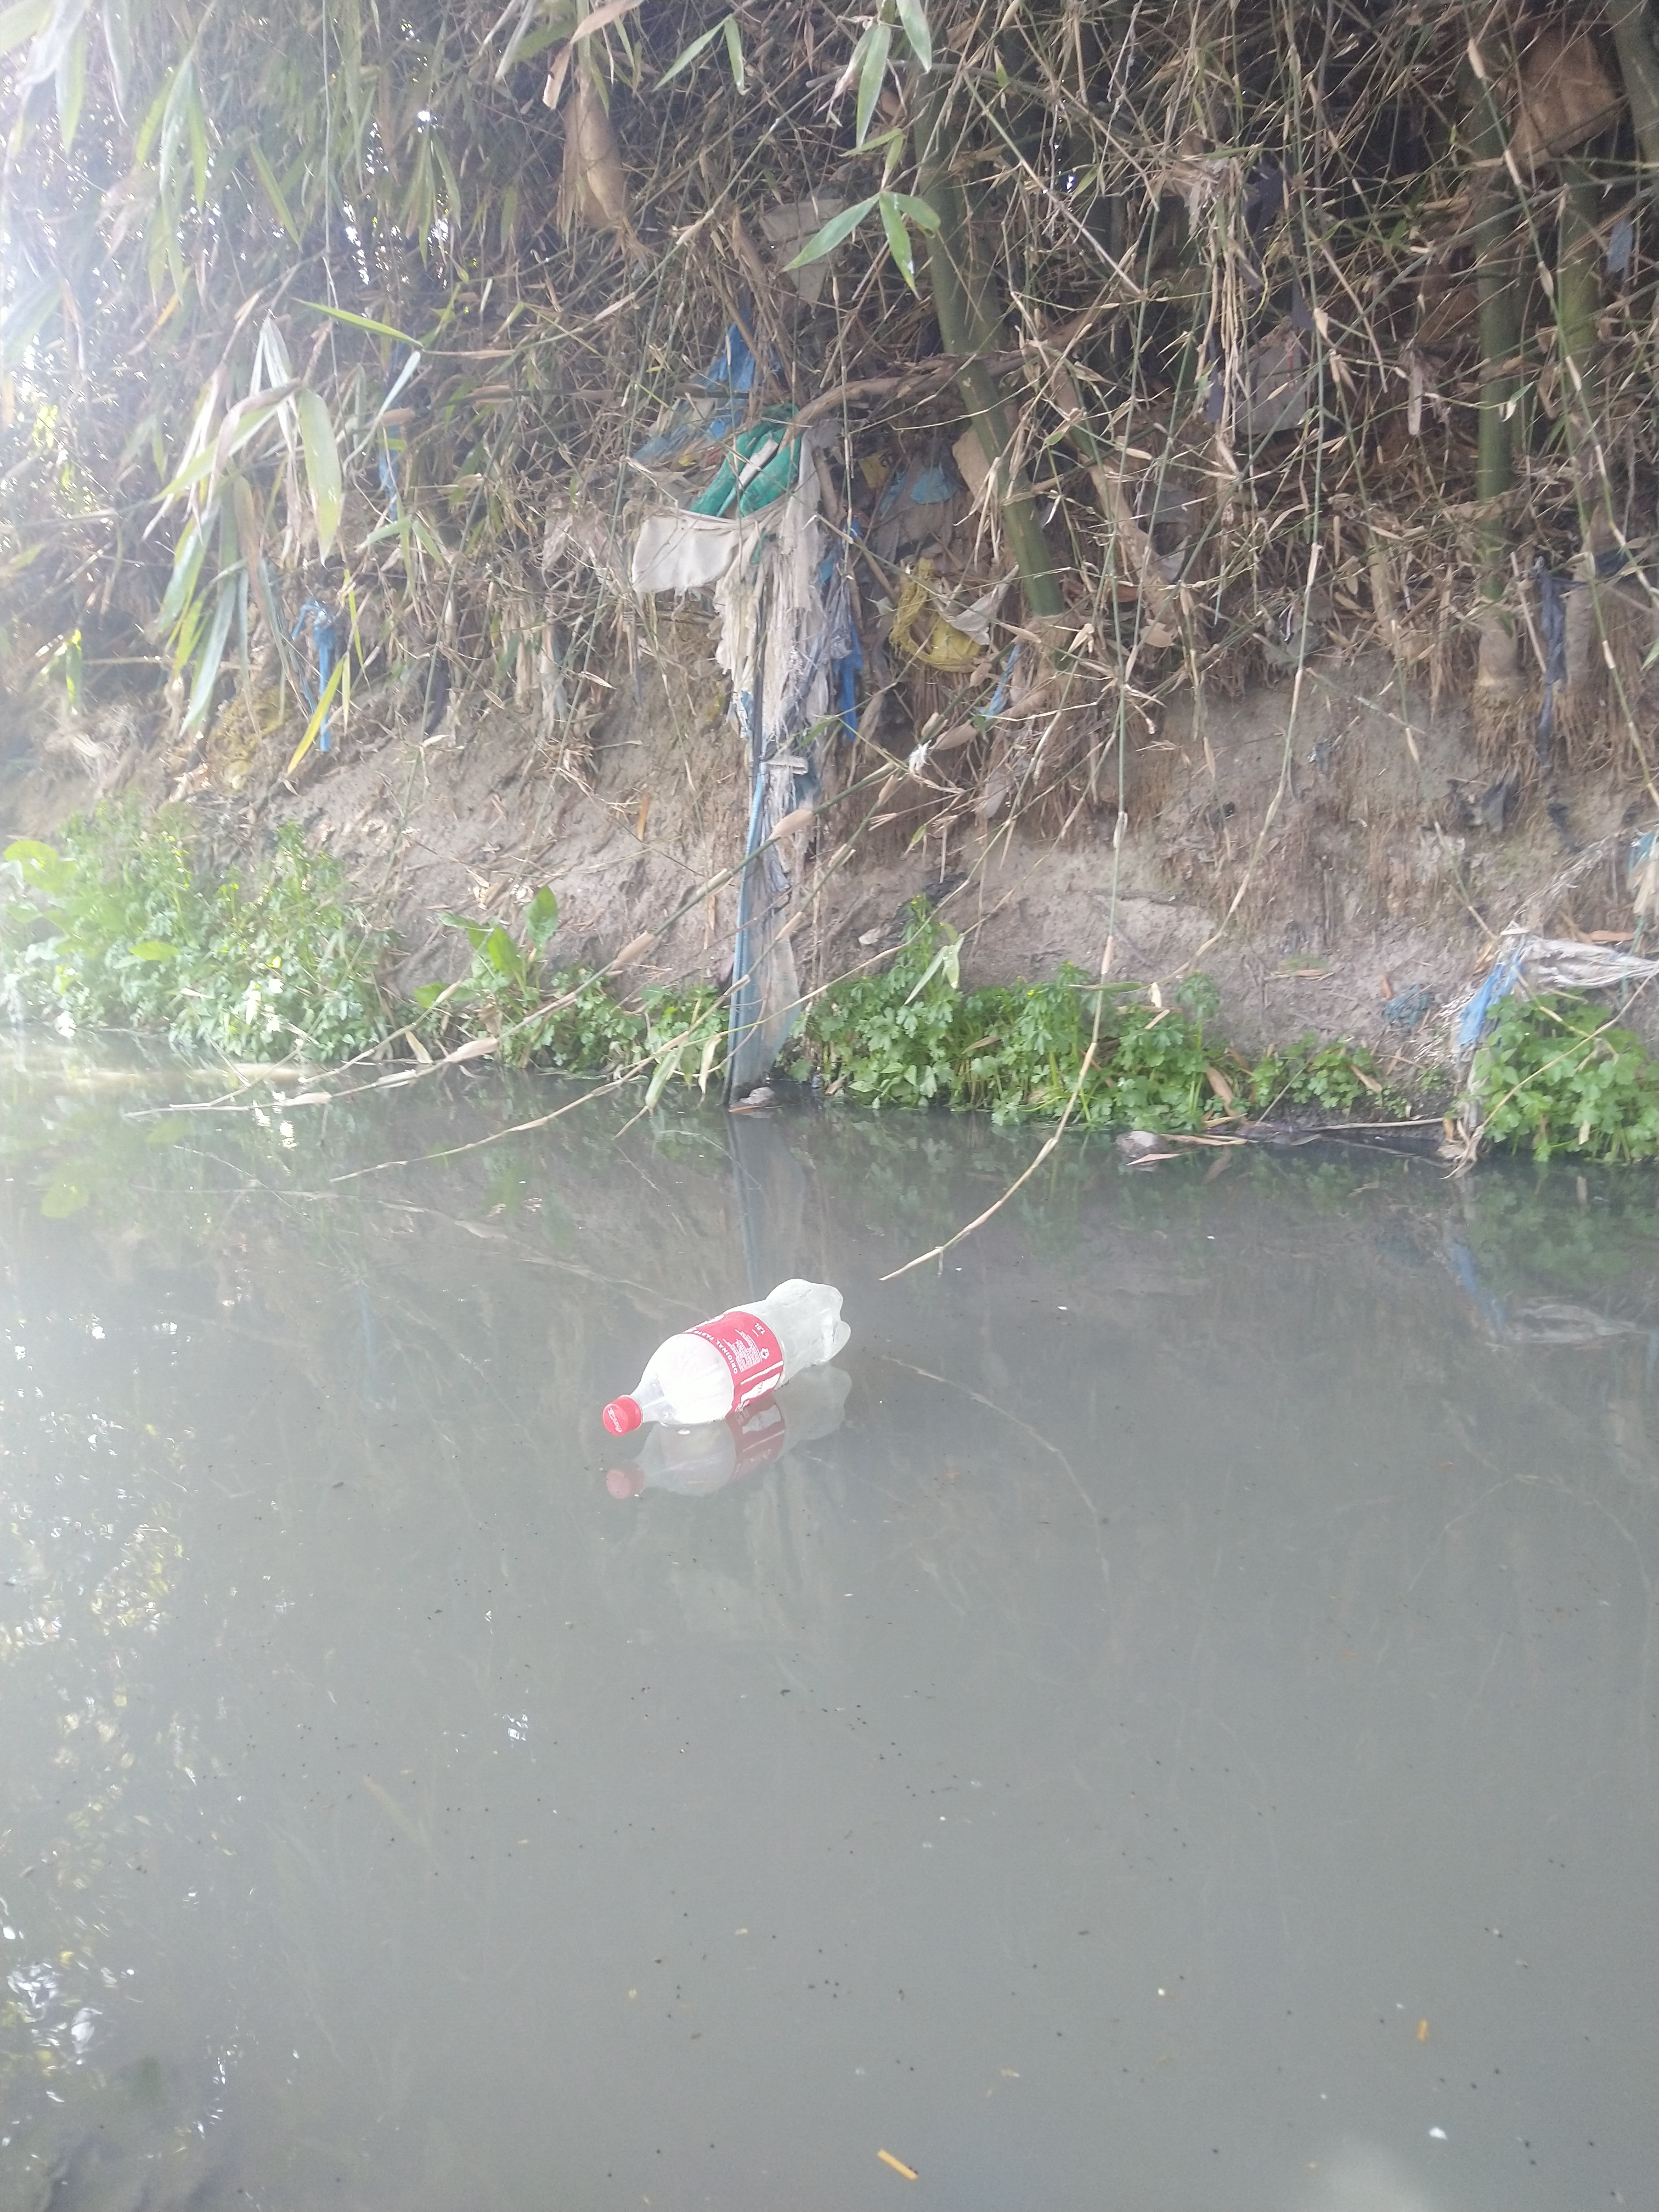Plastic Bottle: (598, 1278, 849, 1435)
